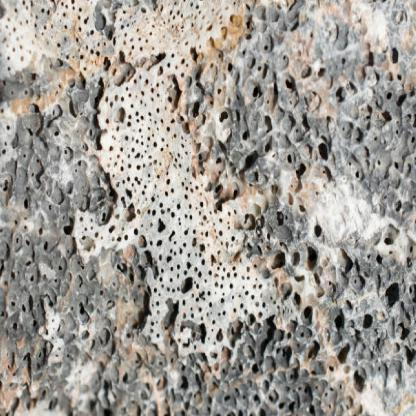Sedimentary_Limestone: (1, 3, 413, 415)
